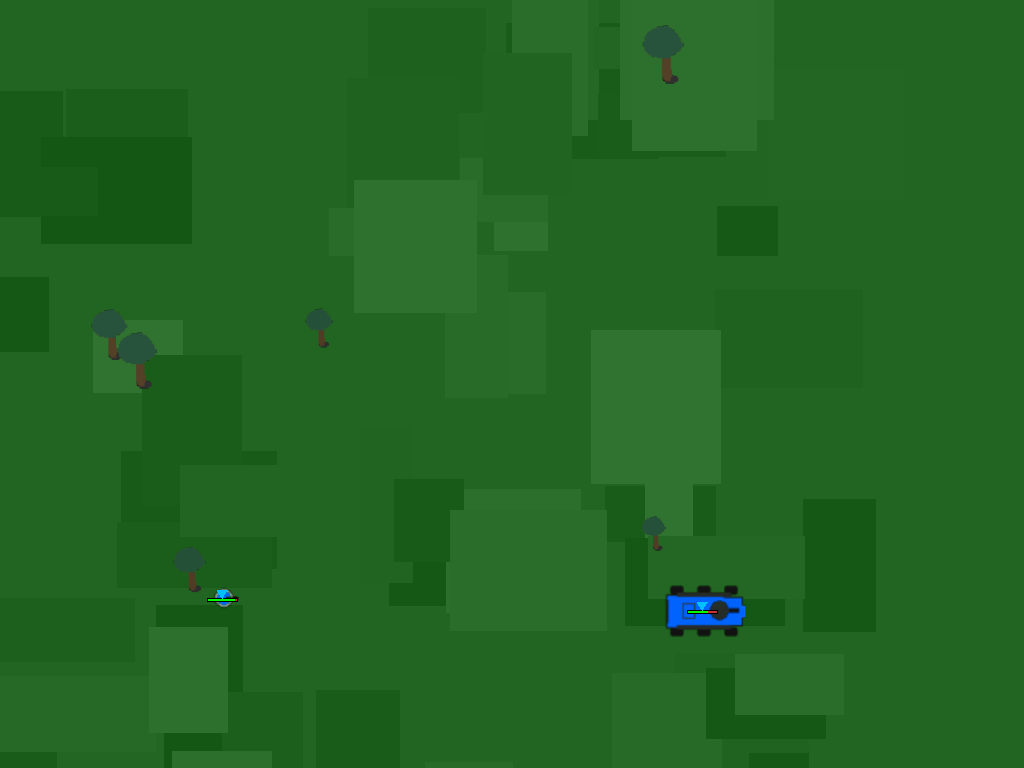APC_usa: (670, 577, 735, 642)
Rifleman: (204, 578, 241, 615)
